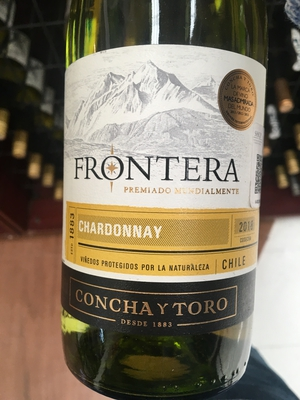frontera chardonnay: (59, 3, 271, 400)
